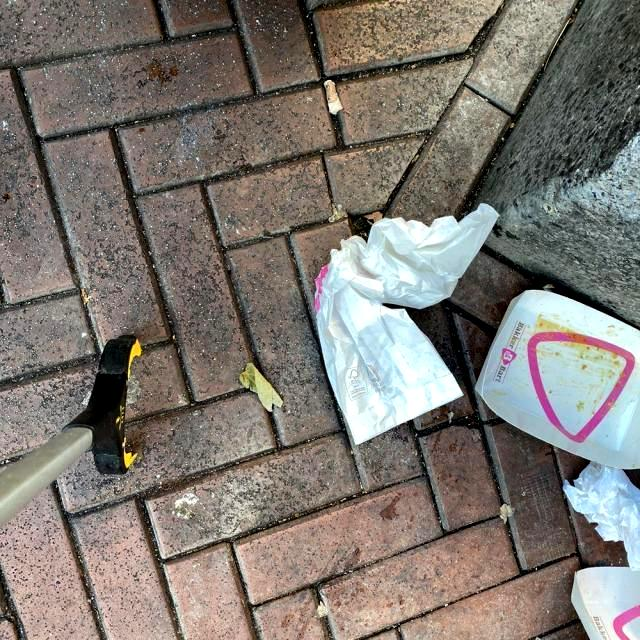Paper: (310, 200, 502, 448), (472, 285, 640, 471), (560, 463, 640, 569), (568, 566, 640, 640)
